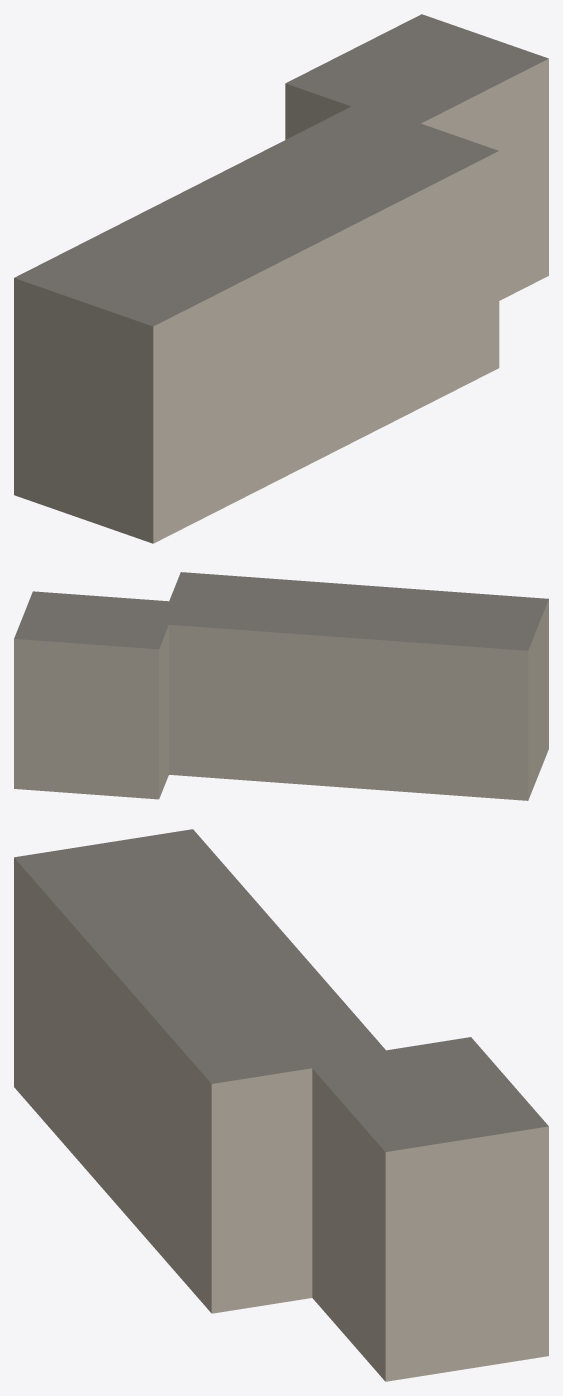
3 renders of one model, top to bottom at view 1: azimuth 30°, elevation 25°; view 2: azimuth 150°, elevation 25°; view 3: azimuth 270°, elevation 25°, orthographic. The views are drawn at different scales.
Parts seen in each view (by area): view 1: HP-w372180521; view 2: HP-w372180521; view 3: HP-w372180521.
Part boxes in pixels (box(x1,y1,x2,y2)): HP-w372180521: box(14, 14, 548, 543); HP-w372180521: box(14, 572, 548, 800); HP-w372180521: box(14, 829, 548, 1381).
Size of the model in its own units: 54.28 by 18 by 38.
